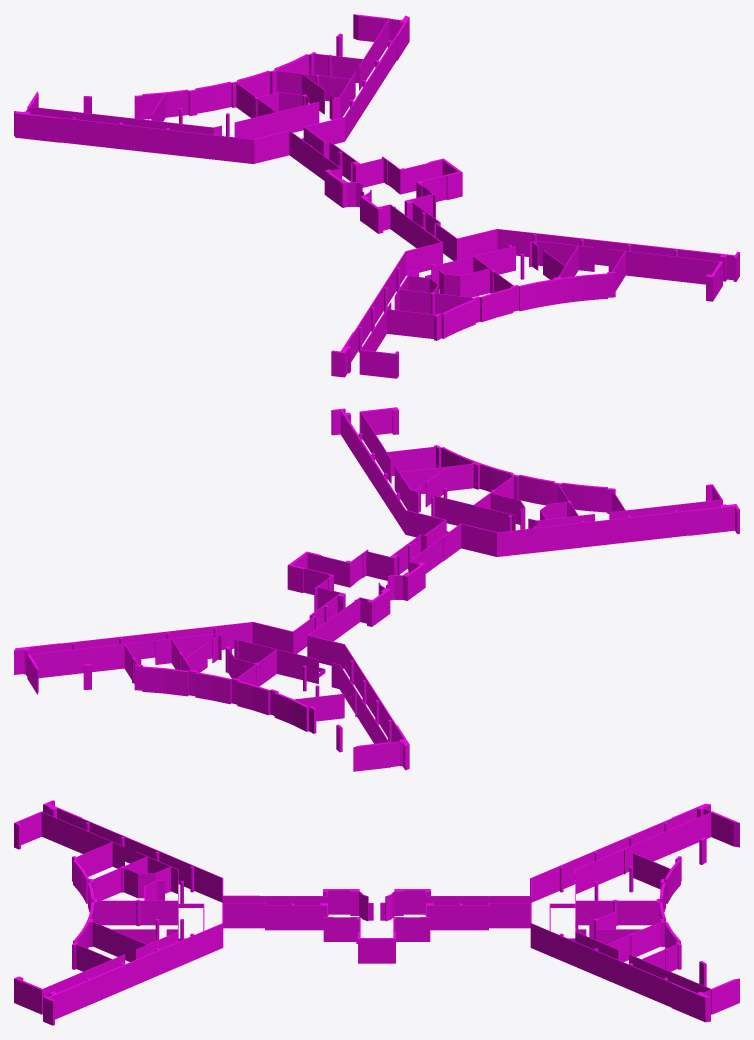
The model's file is WallsCollisionP1.dae.
3 views of the same model, one above another, from view 1: azimuth 30°, elevation 25°; view 2: azimuth 150°, elevation 25°; view 3: azimuth 270°, elevation 25° (orthographic).
Parts seen in each view (by area): view 1: ColisionesP1-Pivot; view 2: ColisionesP1-Pivot; view 3: ColisionesP1-Pivot.
Part boxes in pixels (x1,y1,x2,y2): ColisionesP1-Pivot: [14, 14, 739, 378]; ColisionesP1-Pivot: [14, 407, 739, 771]; ColisionesP1-Pivot: [14, 800, 739, 1025].
Size of the model in its own units: 5806 by 8855 by 330.
Materials: 1 (1 with a texture image).
